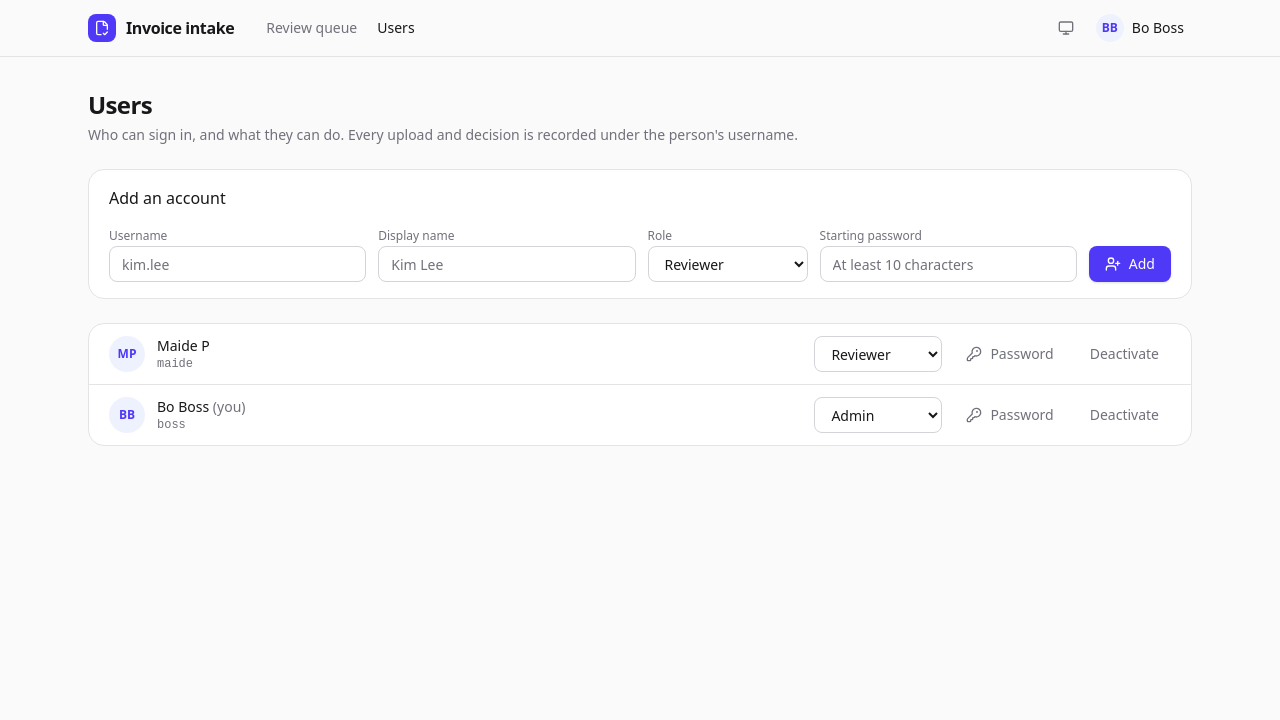
the Users screen › explains a refused change: the last admin keeps the role
Select "Viewer" in the dropdown named "Role for Bo Boss" in the row of "(you)" at (878,415), box [814,397,942,433]
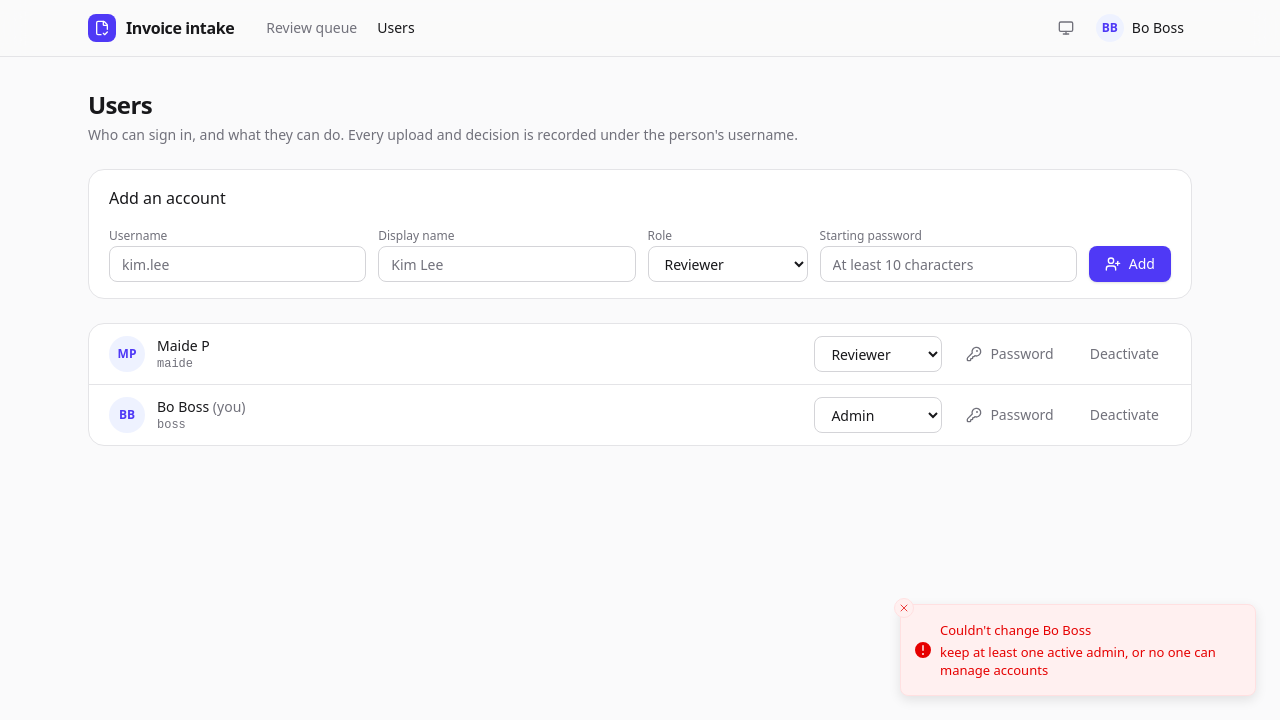
Expected: the text "Couldn't change Bo Boss" is shown, [940,621,1091,639]
Expected: the text "keep at least one active admin" is shown, [940,643,1216,679]
